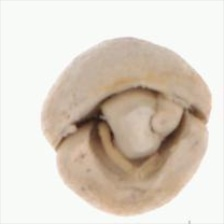L3: (84, 83, 189, 177)
L4: (41, 36, 213, 216)
